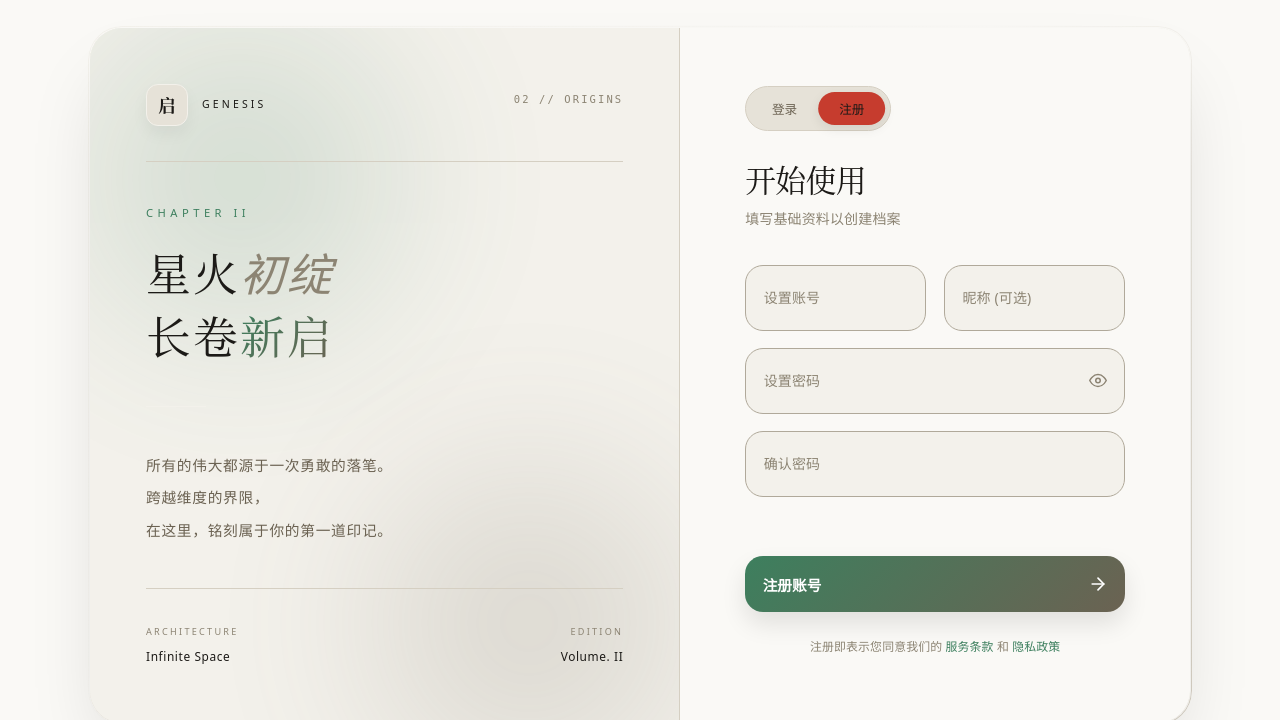
it: RegisterForm › blocks submission when the passwords do not match
The image size is (1280, 720).
Type "alice" into the field next to "设置账号". click: (836, 298)
box: 764,277 -> 908,319
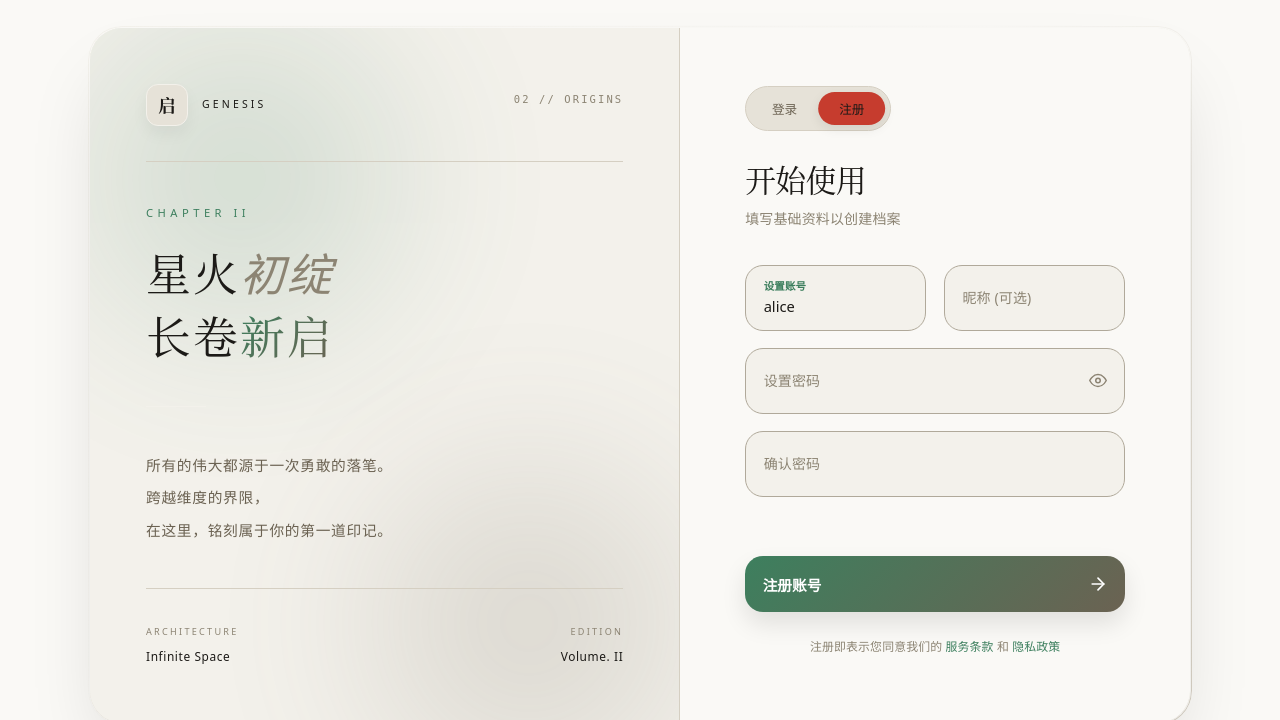
Type "password123" into the password field next to "设置密码". click: (935, 381)
box: 764,360 -> 1107,402
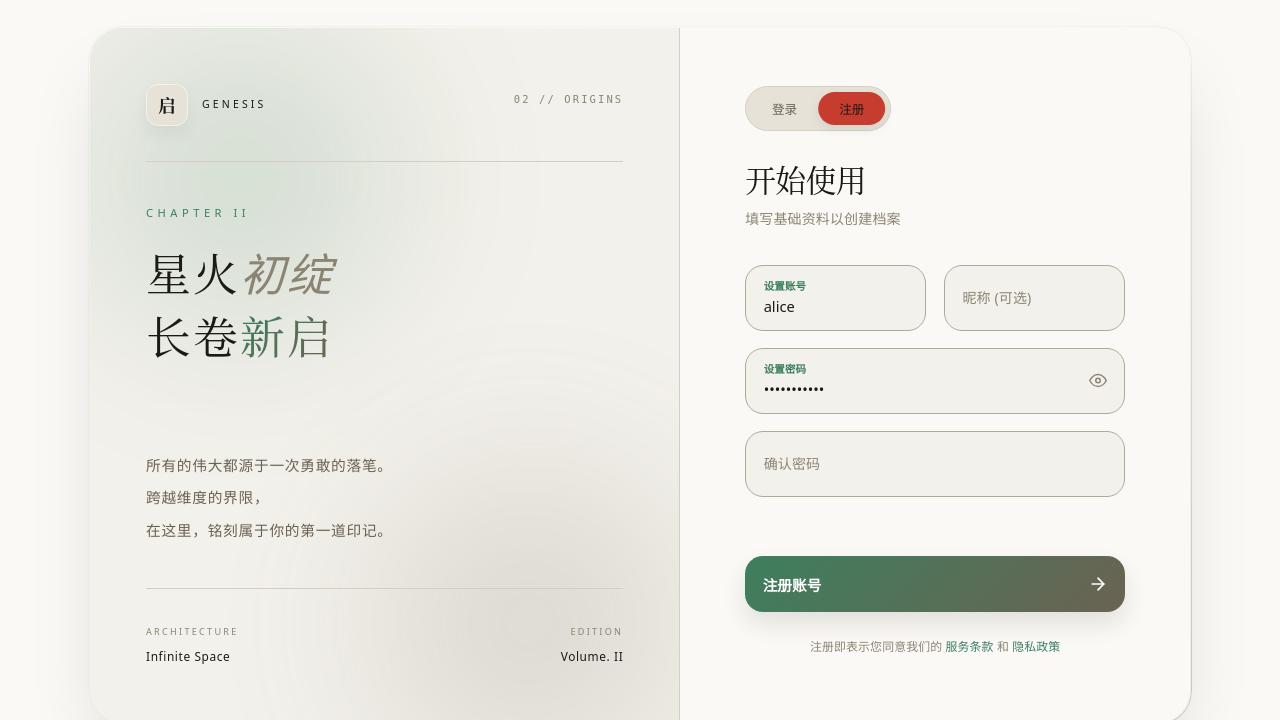
Type "password124" into the password field next to "确认密码". click: (935, 464)
box: 764,443 -> 1107,485
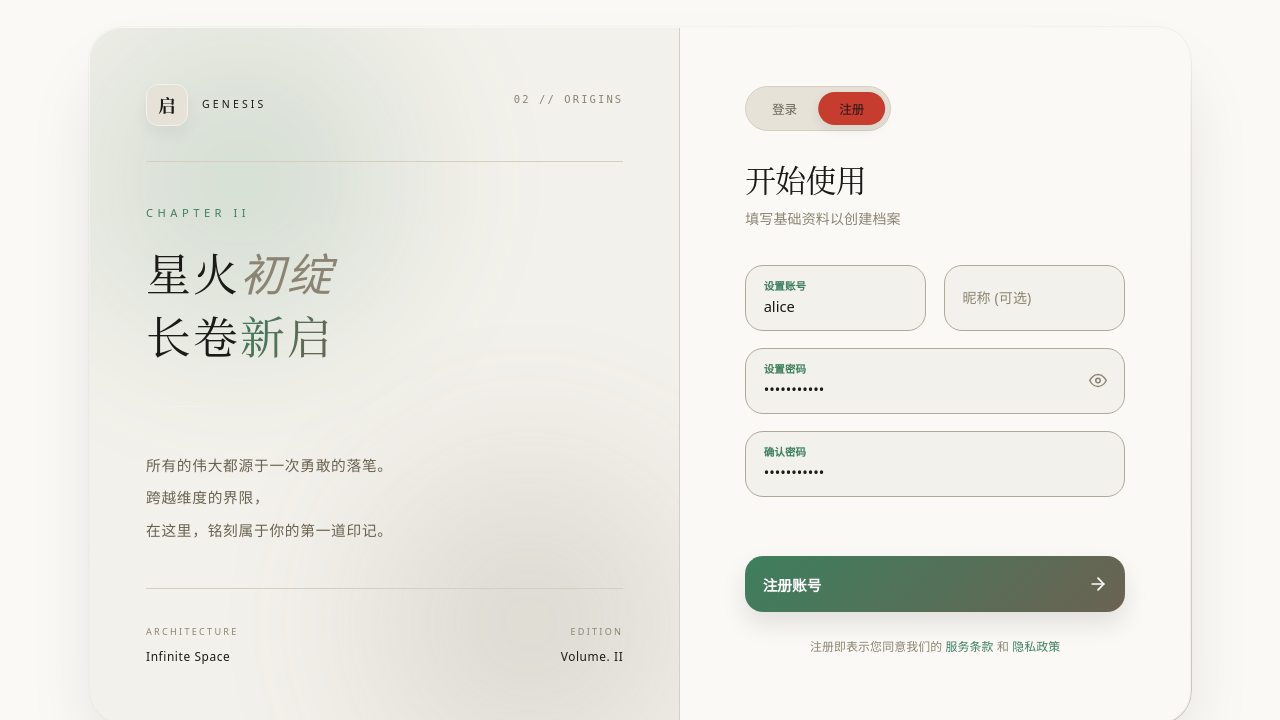
Submit the form, box 745,265 -> 1125,665
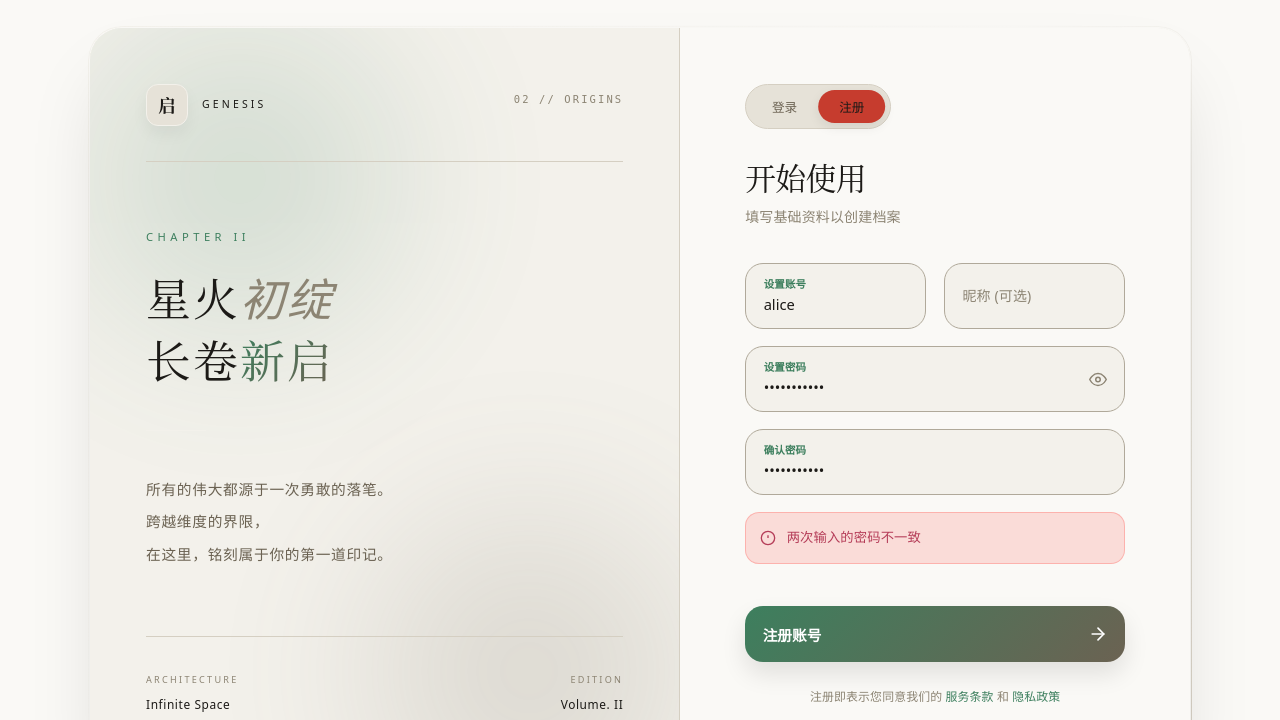
expect the element with class "error-banner" reads "两次输入的密码不一致": met, box 787,528 -> 921,546
